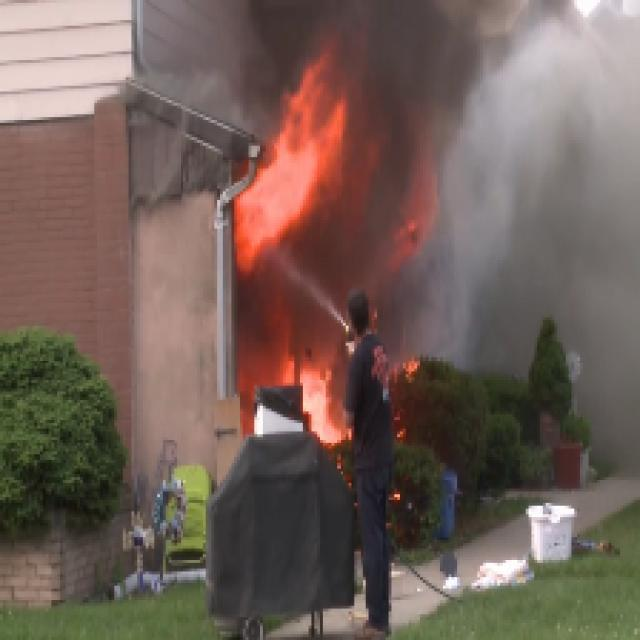Fire: (224, 57, 347, 378)
Smoke: (387, 25, 612, 302)
